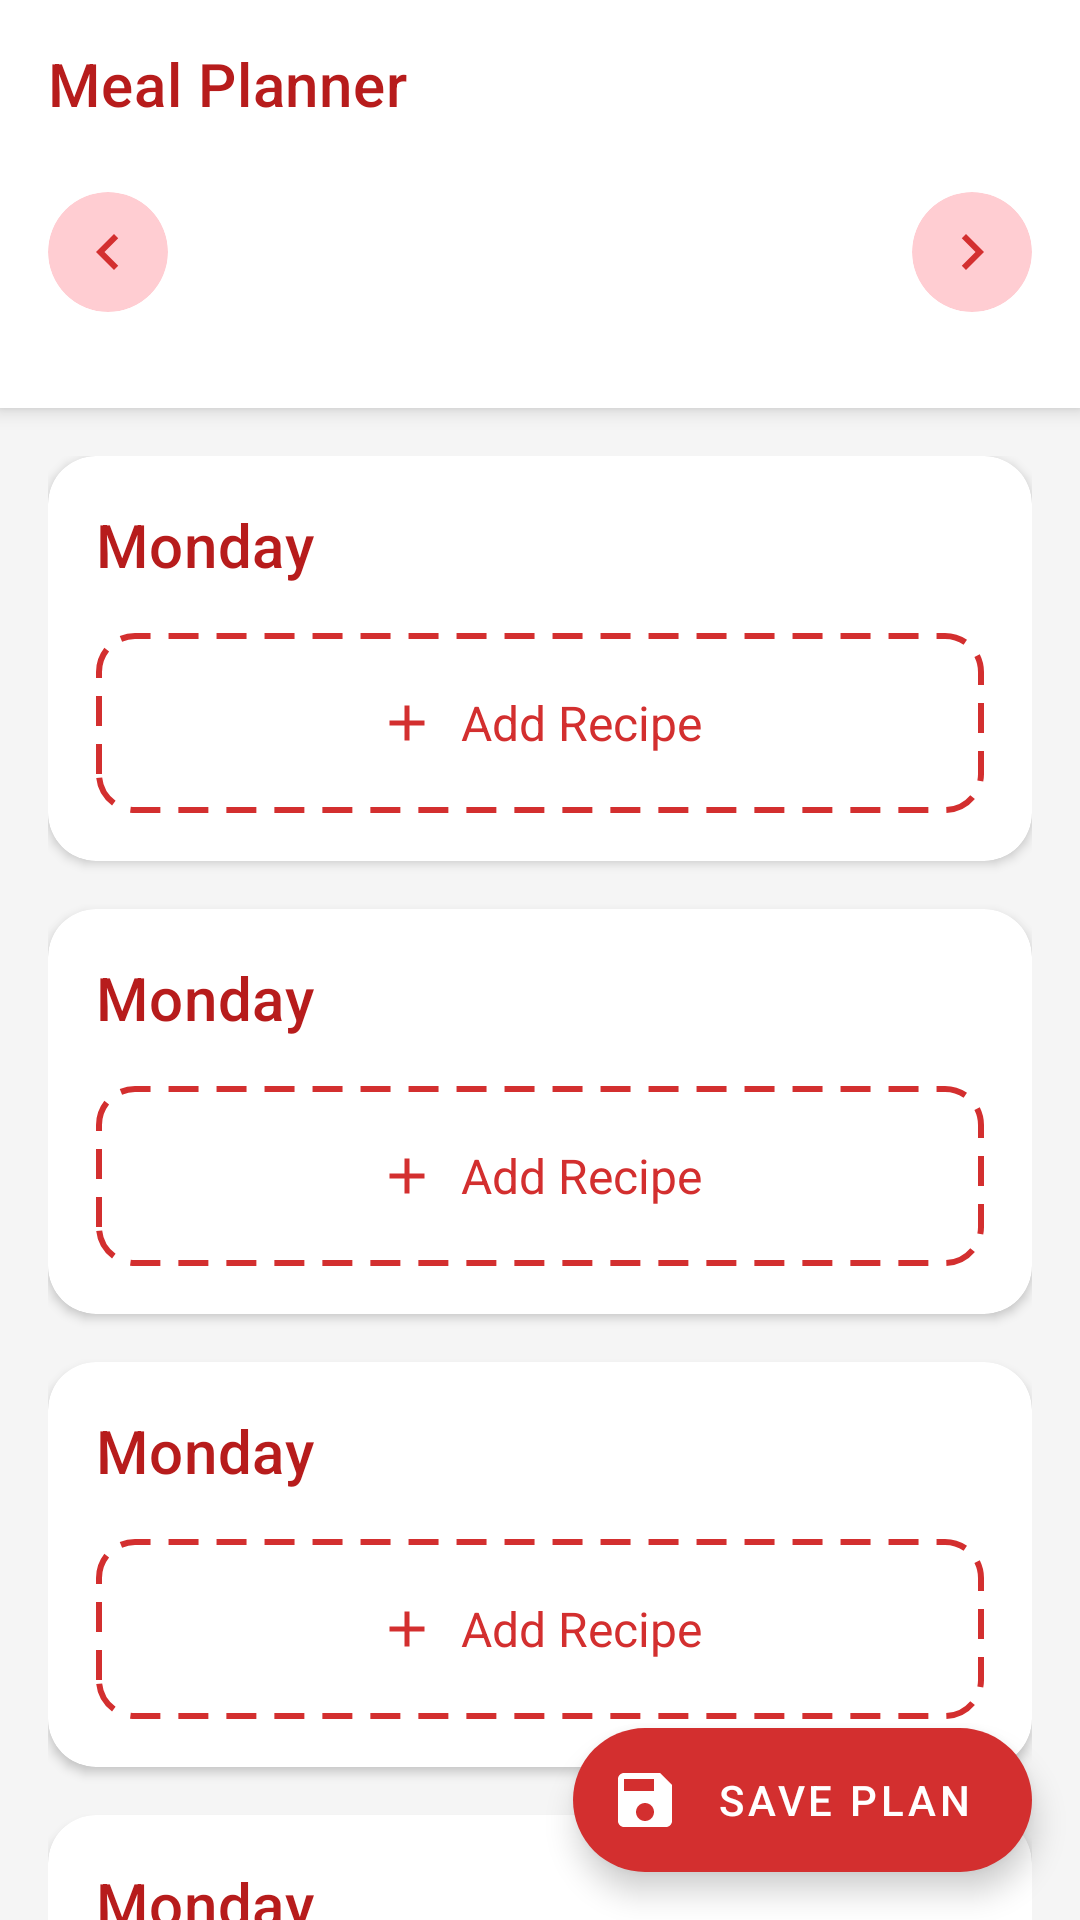

Named icons in this screenshot (1080 x 1920) and their centers, point (x, y):
Next Week: point (973, 252)
Previous Week: point (107, 252)
